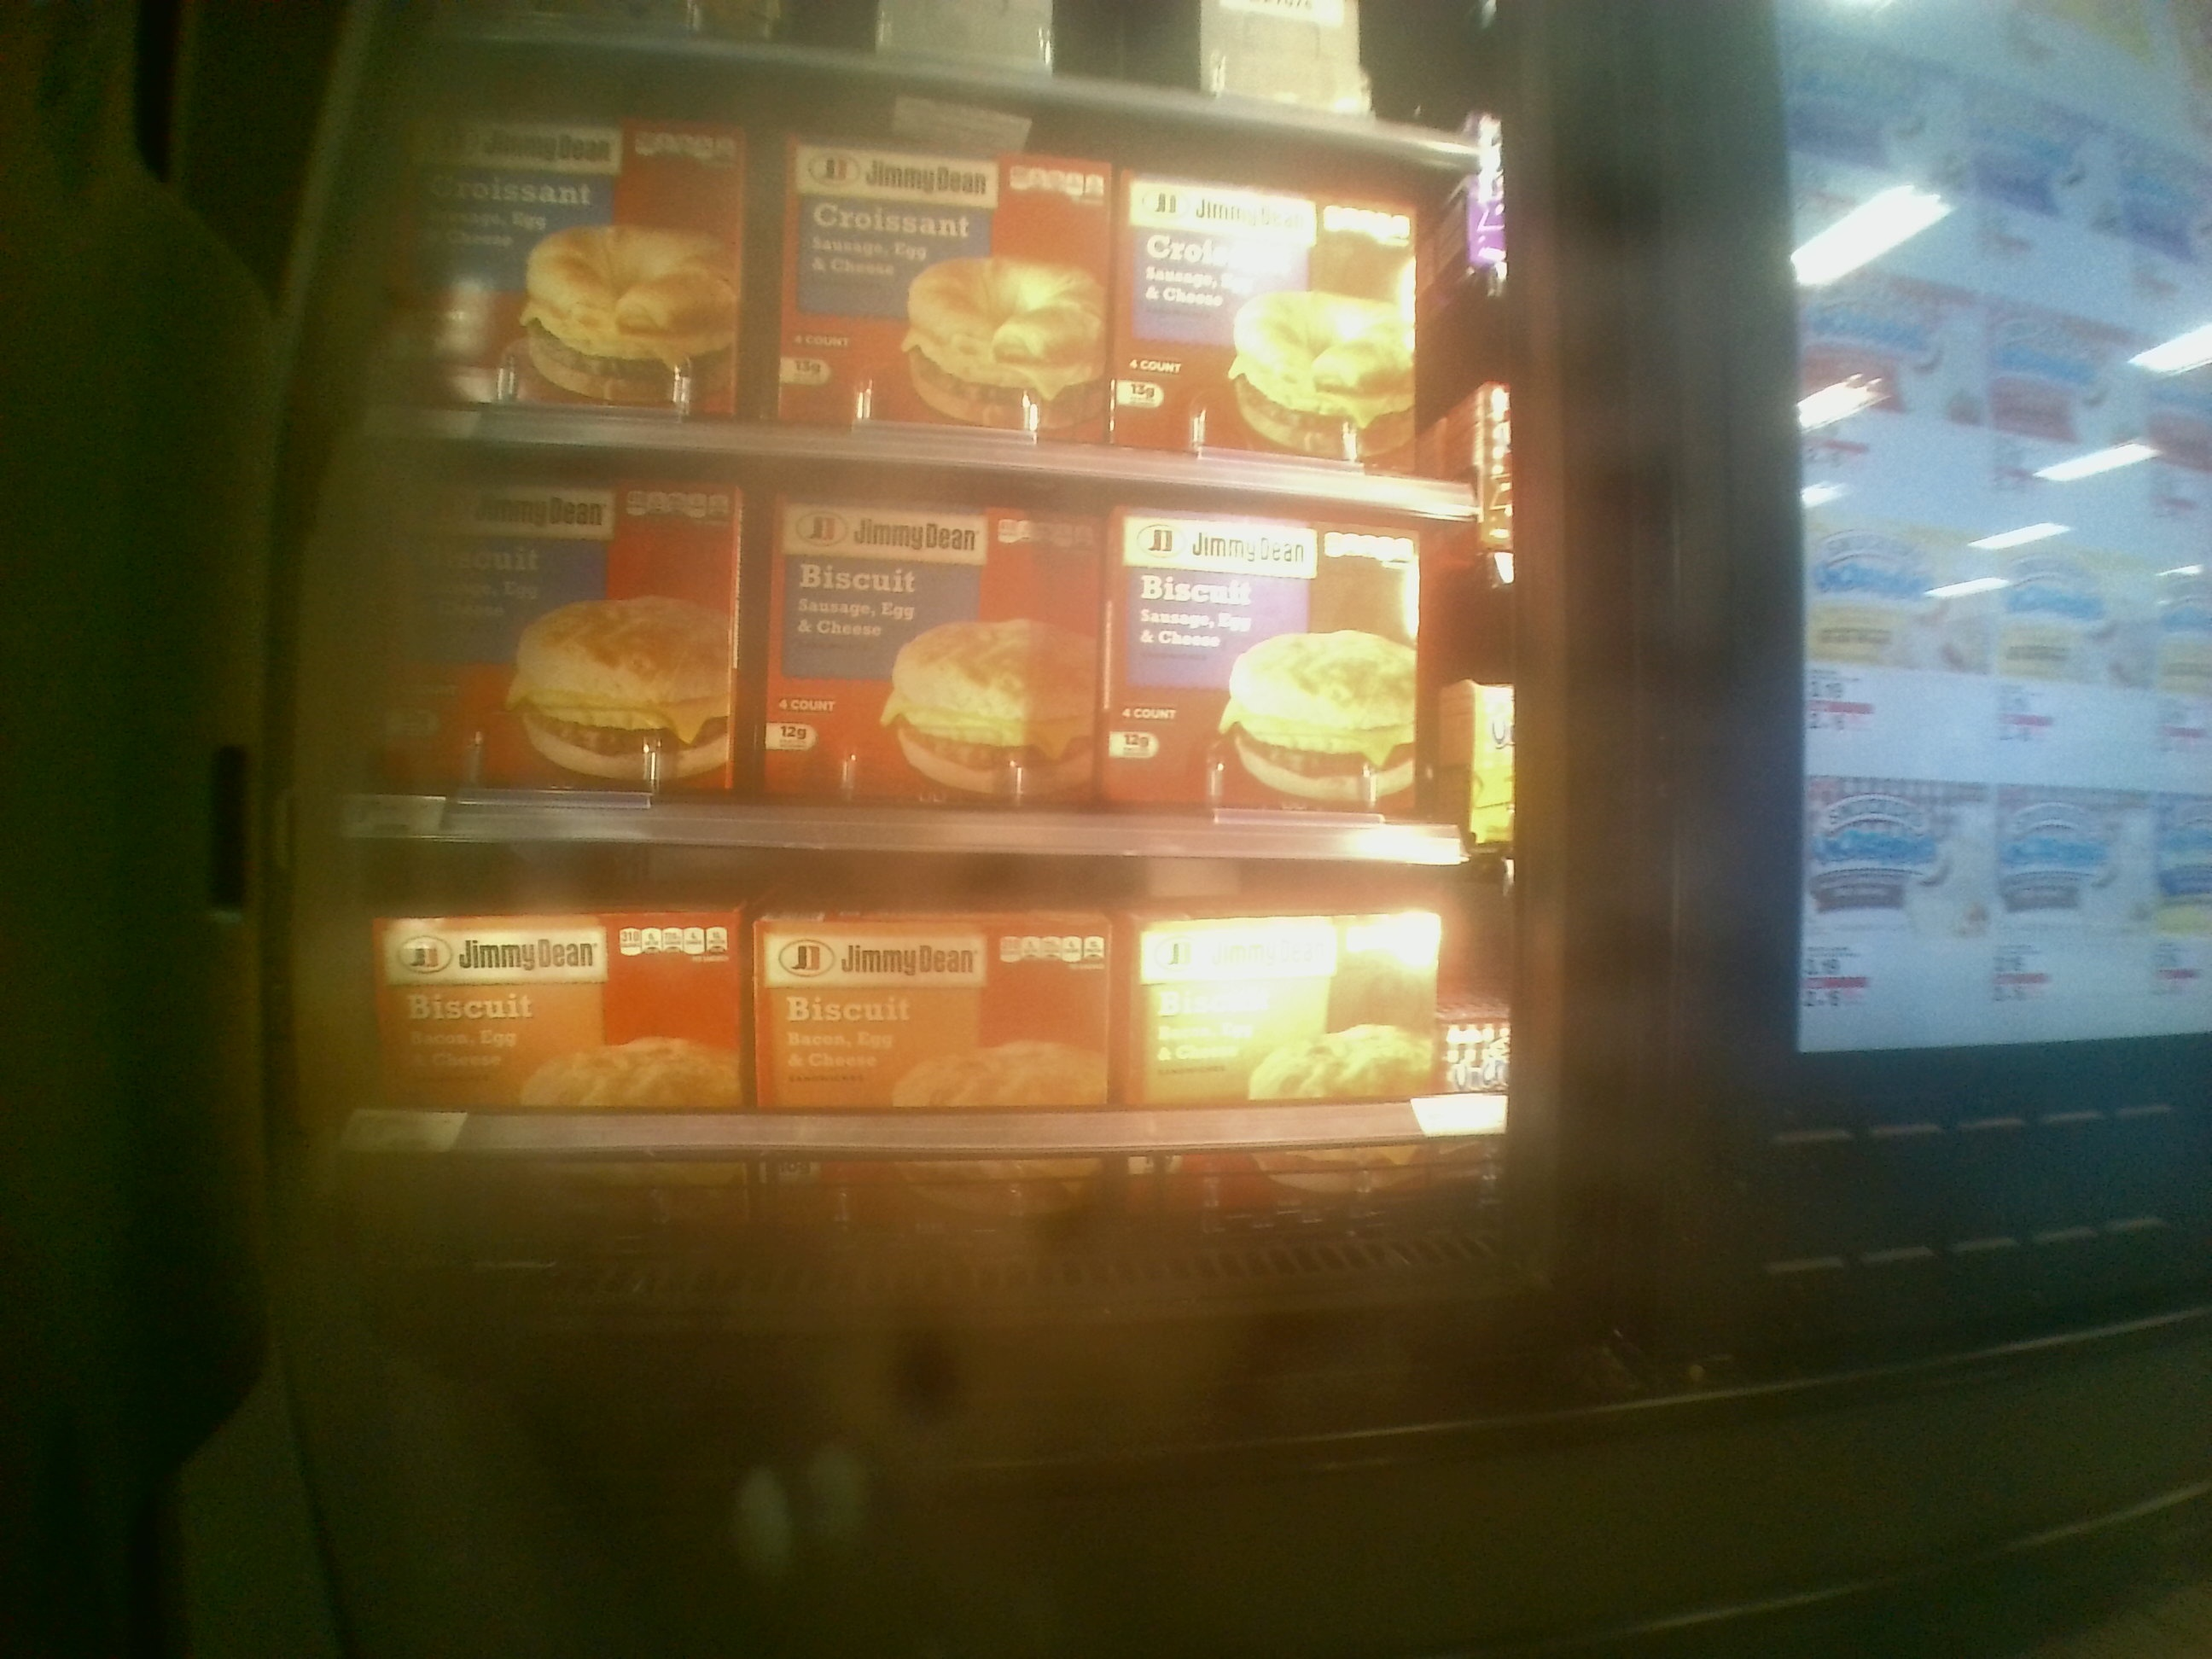shelf: (359, 443, 1514, 868), (340, 854, 1515, 1234)
